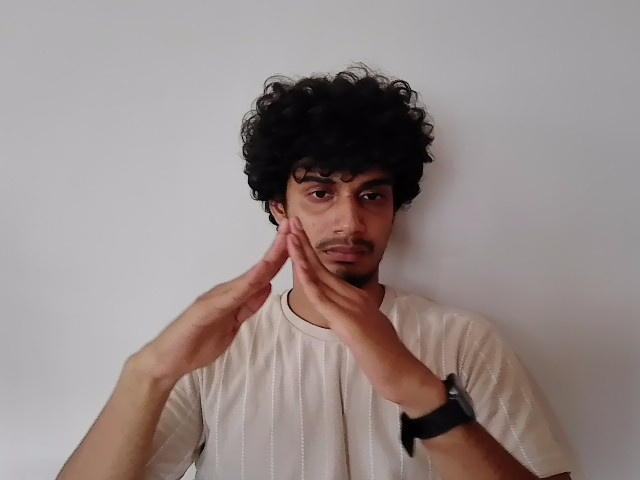home: (161, 211, 409, 382)
